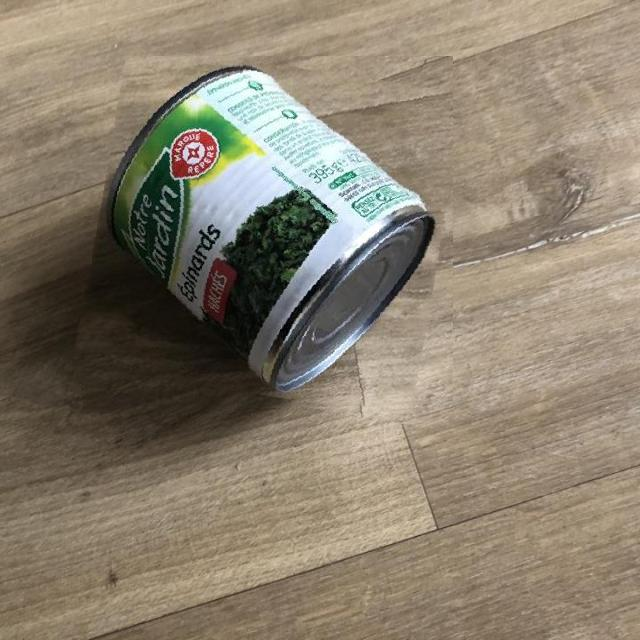recyclable: (85, 56, 453, 412)
